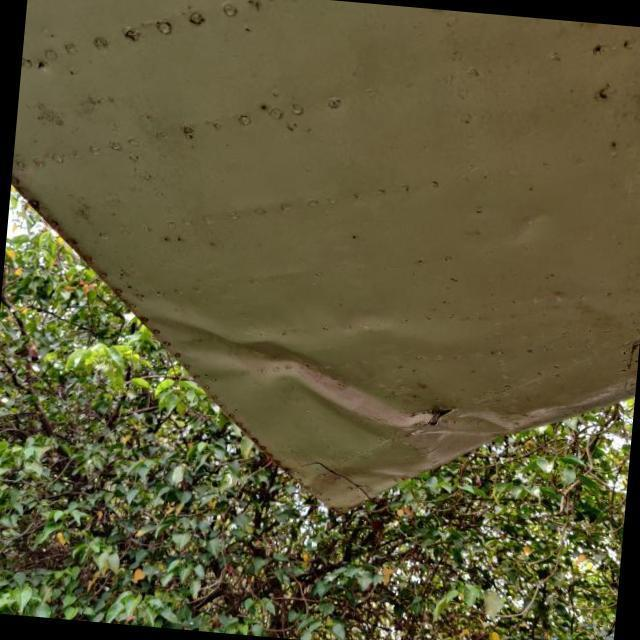dent: (130, 287, 438, 455), (437, 376, 636, 450), (275, 450, 423, 508)
